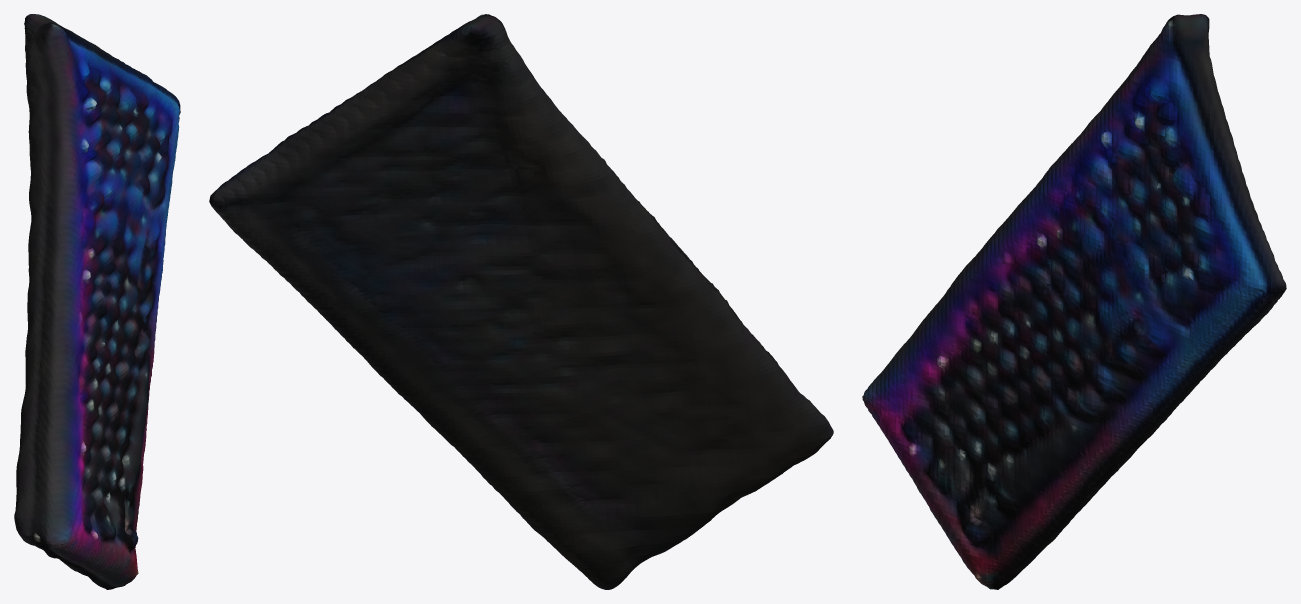
3 views of the same model, side by side, from view 1: azimuth 30°, elevation 25°; view 2: azimuth 150°, elevation 25°; view 3: azimuth 270°, elevation 25° (orthographic). The views are drawn at different scales.
Size of the model in its own units: 0.7184 by 1.07 by 0.7108.
